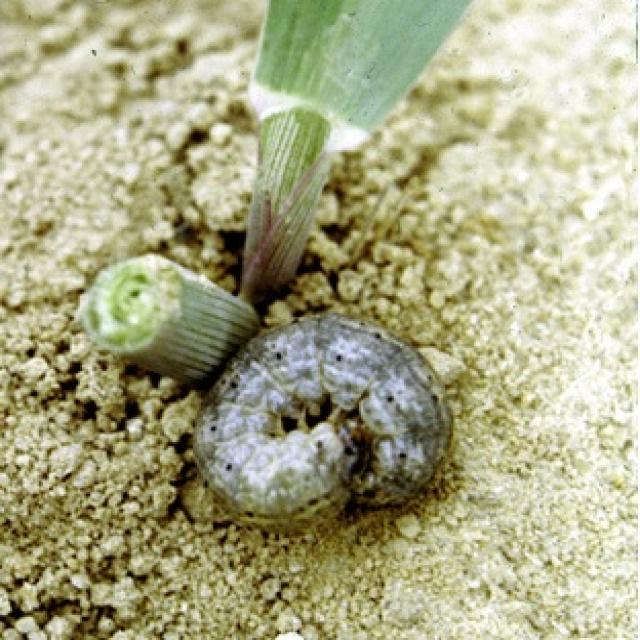Cutworm: (210, 313, 450, 526)
